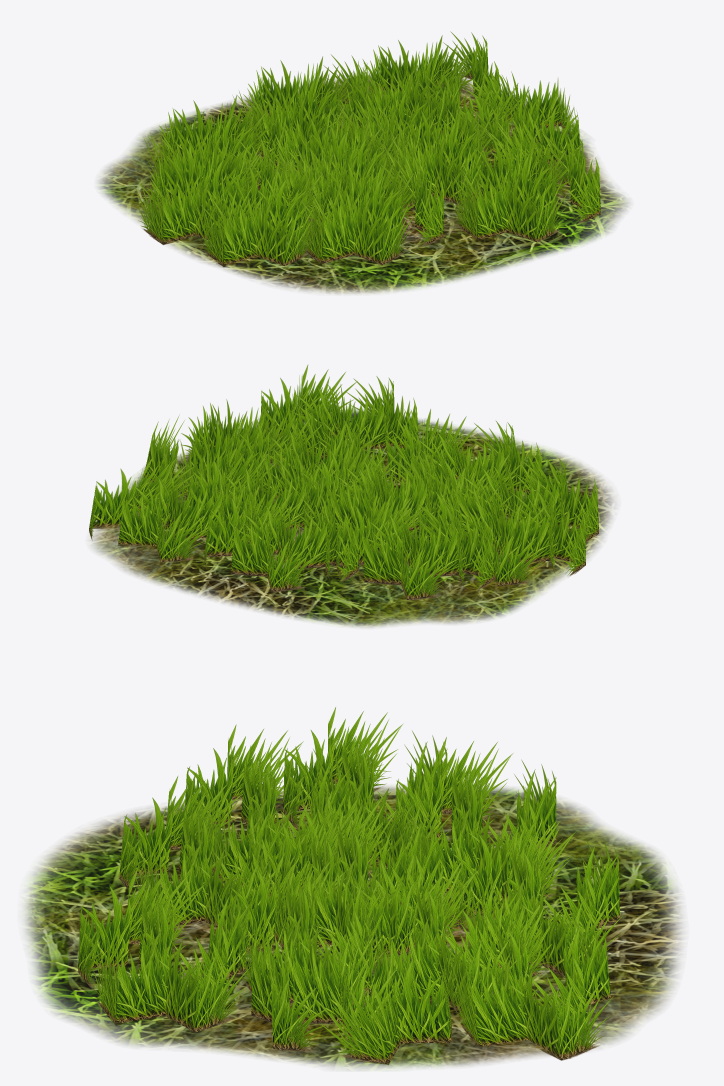
Rendered from grass.glb.
3 renders of one model, top to bottom at view 1: azimuth 30°, elevation 25°; view 2: azimuth 150°, elevation 25°; view 3: azimuth 270°, elevation 25°, orthographic. The views are drawn at different scales.
Parts seen in each view (by area): view 1: base, grass; view 2: base, grass; view 3: base, grass.
Boxes of the visible parts, x1,y1,x2,y2 form: base: (133,31,600,266); grass: (99,74,627,293); base: (89,365,598,600); grass: (91,408,613,627); base: (77,707,623,1064); grass: (25,786,681,1068).
Size of the model in its own units: 2.7 by 0.4217 by 2.7.
Materials: 2 (2 with a texture image).
